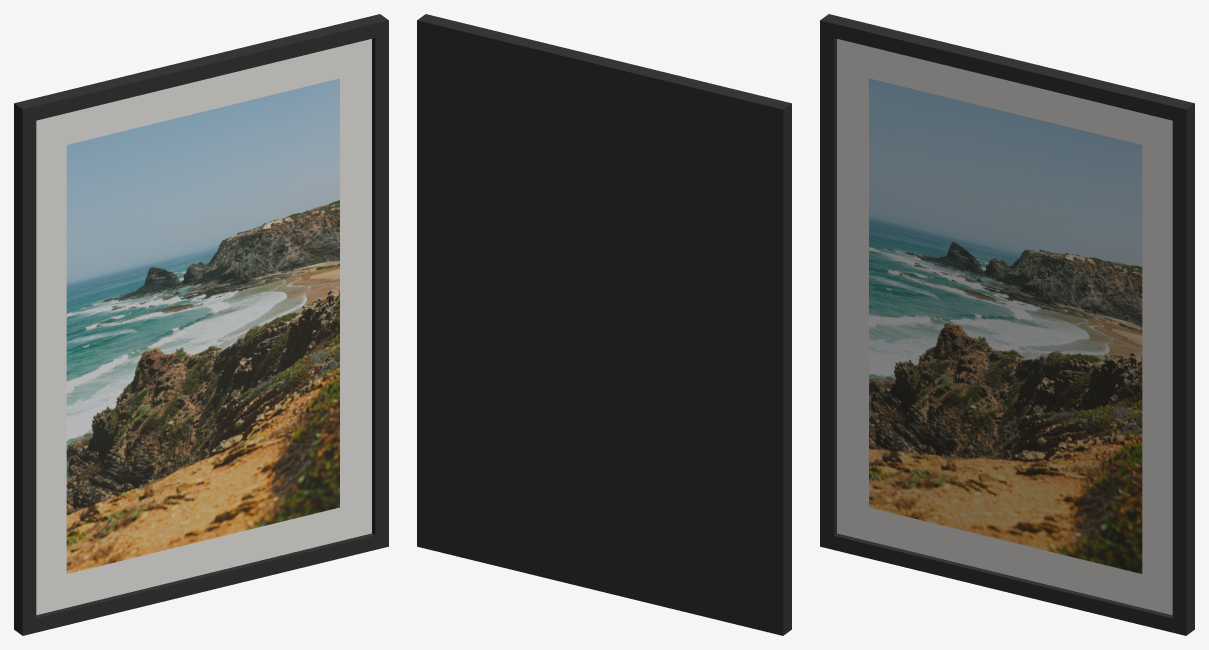
File: atlantkusten-60.gltf
The picture shows the model from 3 angles, left to right: view 1: azimuth 30°, elevation 25°; view 2: azimuth 150°, elevation 25°; view 3: azimuth 330°, elevation 25°; orthographic projection.
Parts seen in each view (by area): view 1: tavla; view 2: tavla; view 3: tavla.
Part boxes in pixels (<box>): tavla: <box>14,14,388,635</box>; tavla: <box>417,14,791,635</box>; tavla: <box>820,14,1194,635</box>.
Size of the model in its own units: 0.5356 by 0.7359 by 0.022.
Materials: 3 (1 with a texture image).
